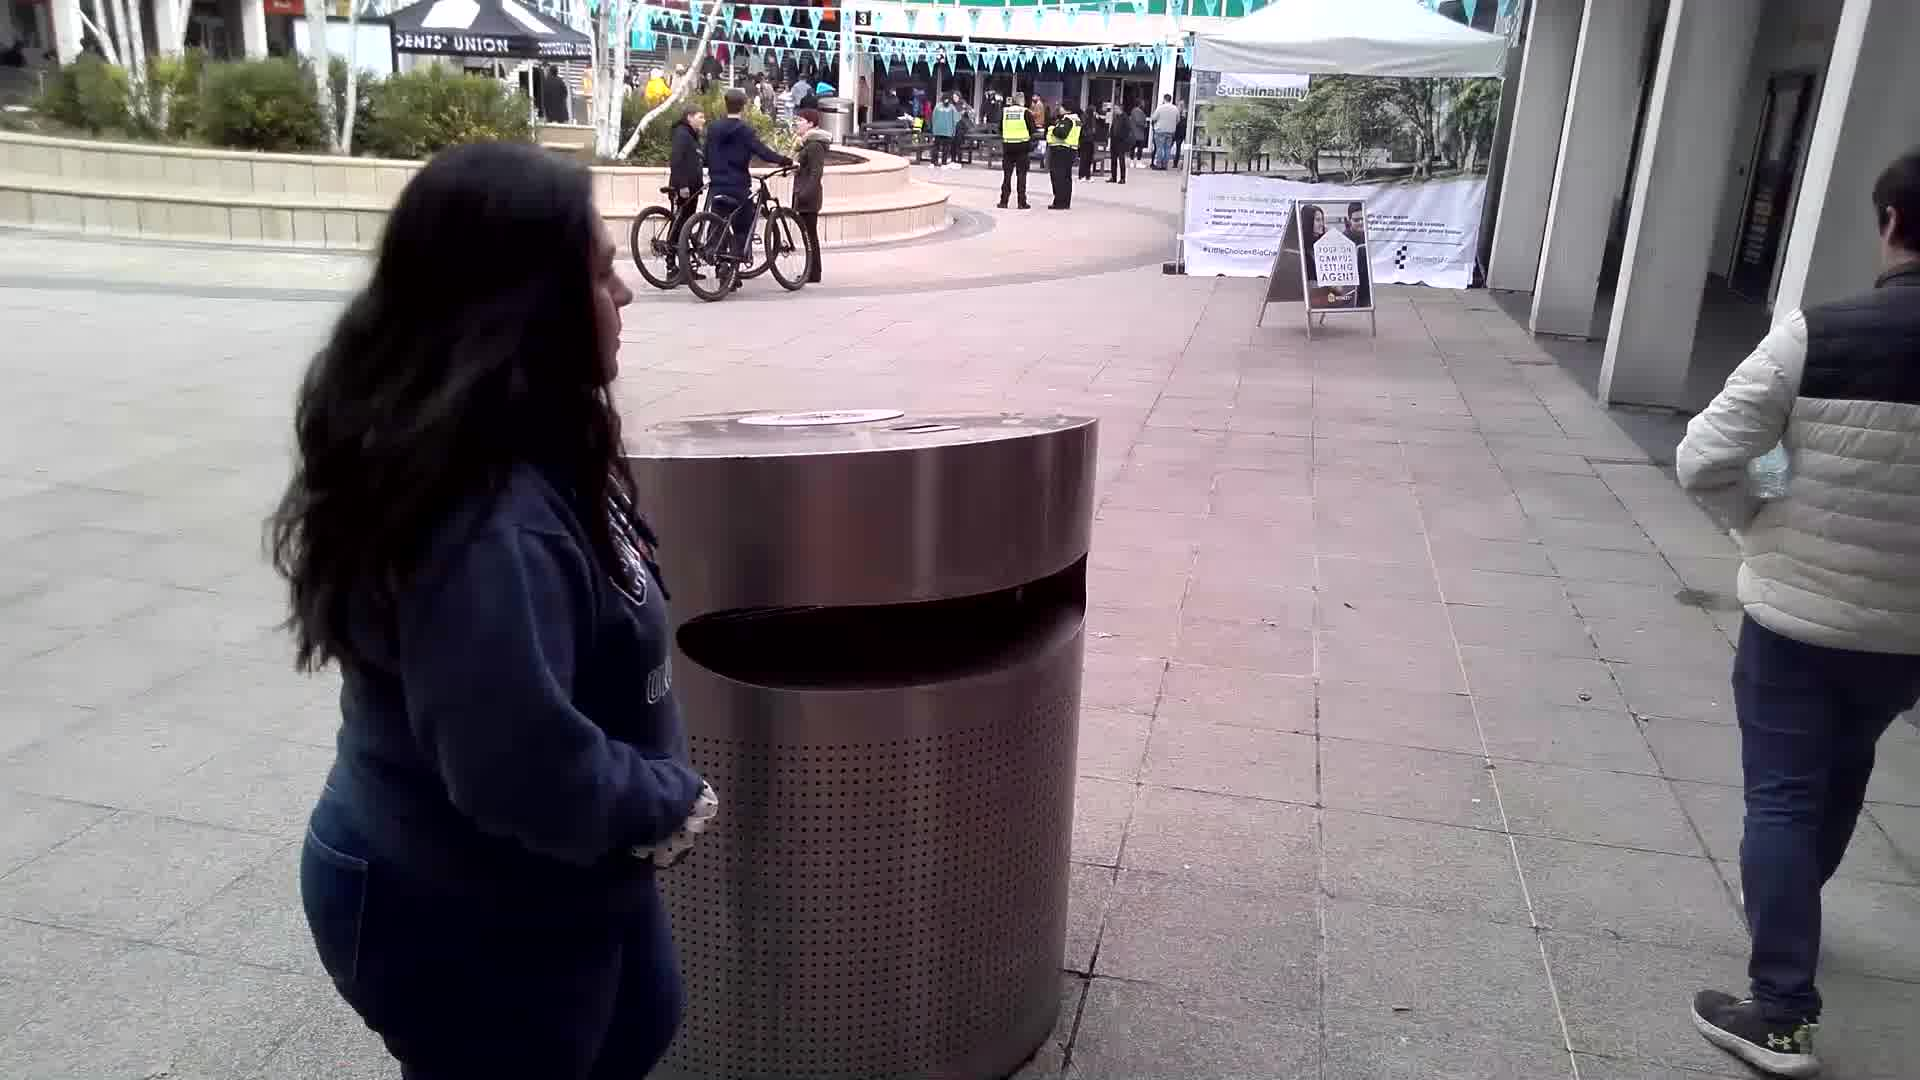Bin: (648, 407, 1106, 1080)
Person: (292, 142, 689, 1080), (1748, 145, 1920, 1080), (714, 85, 758, 265), (792, 106, 828, 286), (668, 101, 708, 249), (1048, 97, 1081, 206), (1006, 93, 1033, 210)
